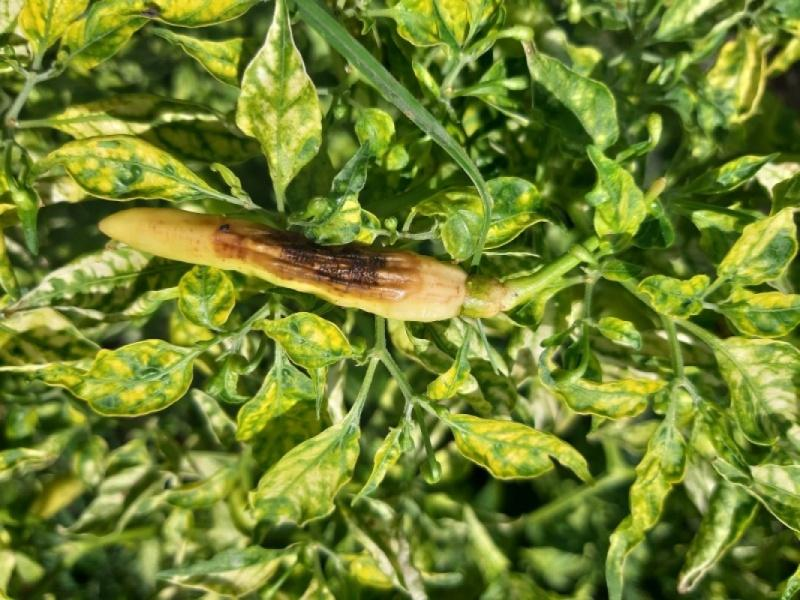antraknosa: (99, 205, 471, 324)
